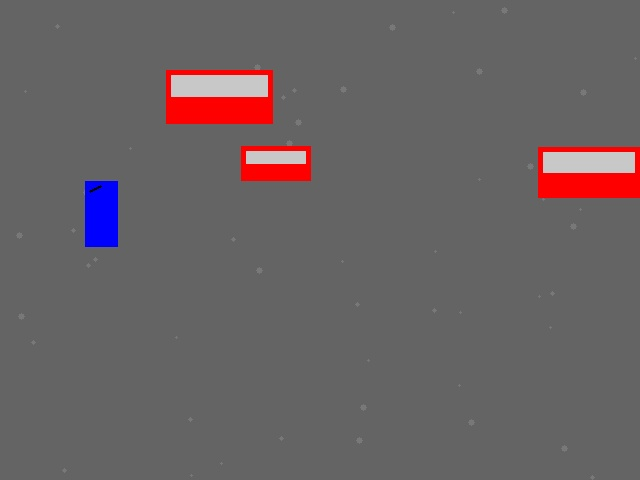car: (166, 70, 272, 123), (538, 147, 639, 197), (241, 146, 310, 180)
motorcycle: (85, 181, 117, 246)
